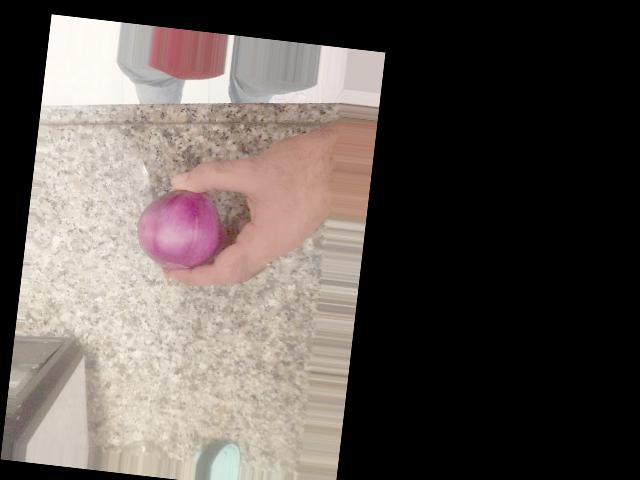onion: (133, 185, 219, 280)
